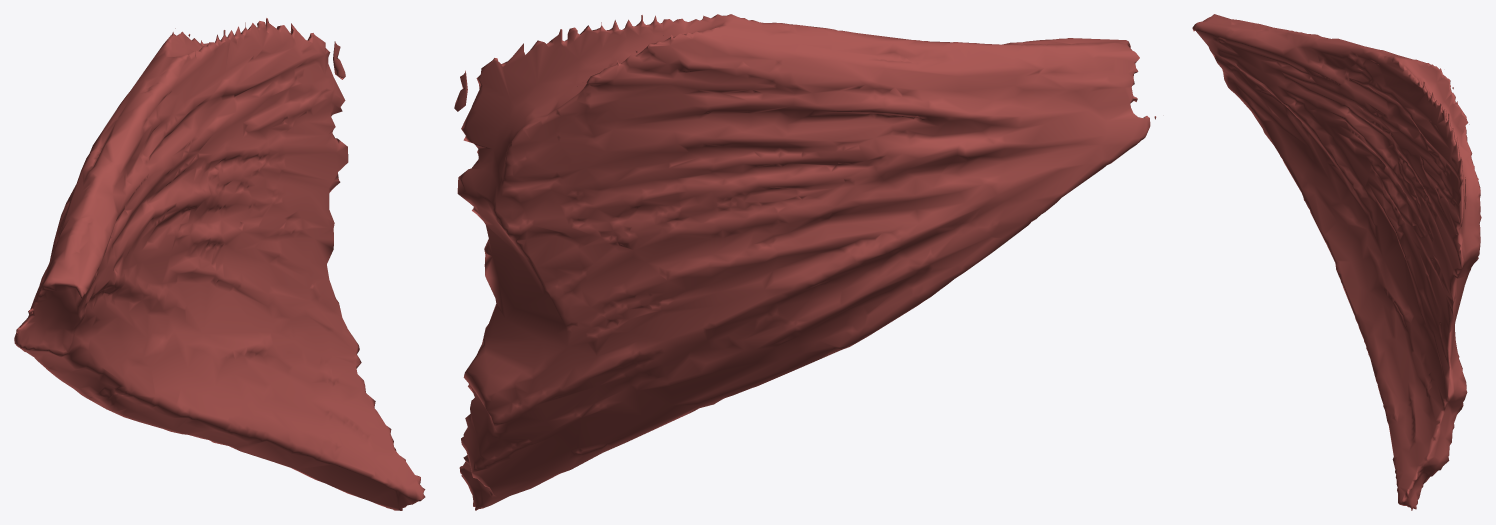
Rendered from FMA46443.glb.
3 views of the same model, side by side, from view 1: azimuth 30°, elevation 25°; view 2: azimuth 150°, elevation 25°; view 3: azimuth 270°, elevation 25° (orthographic). The views are drawn at different scales.
Visible parts, largest first — view 1: FMA46443; view 2: FMA46443; view 3: FMA46443.
Boxes of the visible parts, bbox=[...] form: FMA46443: bbox=[14, 18, 425, 510]; FMA46443: bbox=[454, 14, 1156, 510]; FMA46443: bbox=[1192, 14, 1481, 510].
Bounding box in the file's own units: 0.0434 × 0.0399 × 0.0281.
